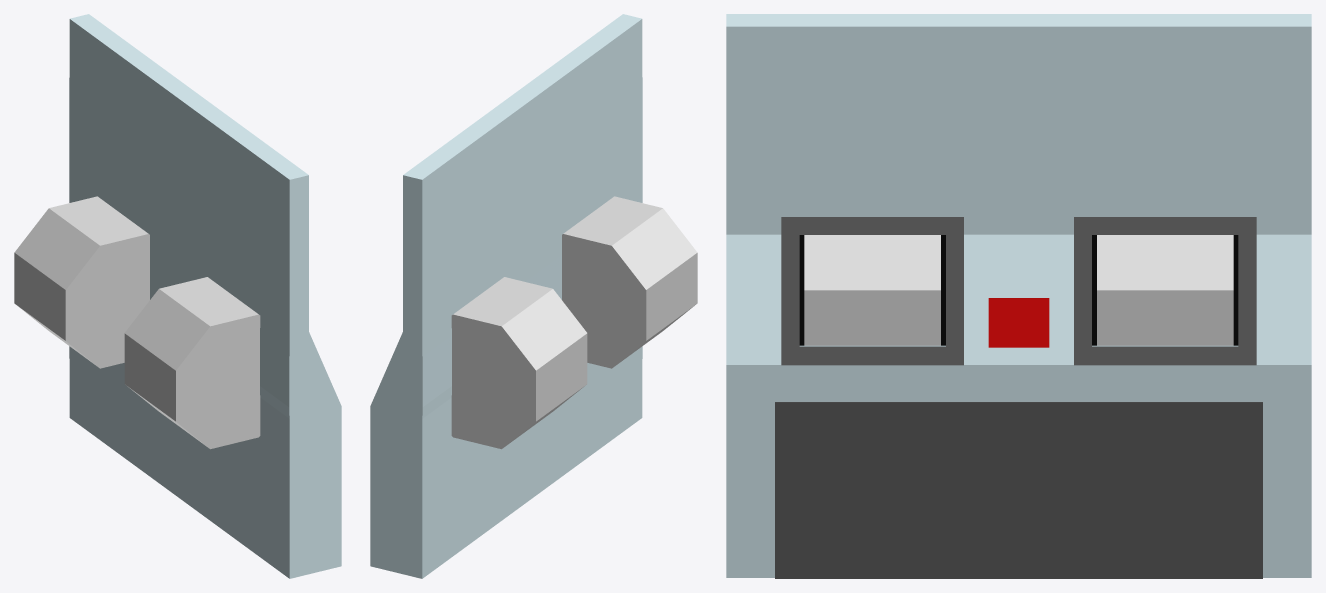
The model's file is elevator_slot_machine.fbx.
The picture shows the model from 3 angles, left to right: view 1: azimuth 30°, elevation 25°; view 2: azimuth 150°, elevation 25°; view 3: azimuth 270°, elevation 25°; orthographic projection. The views are drawn at different scales.
Visible parts, largest first — view 1: Cube.014, Cylinder.001, Cylinder.002; view 2: Cube.014, Cylinder.002, Cylinder.001; view 3: Cube.014, Cube.016, Cylinder.001, Cylinder.002, Cube.002, Cube.005, Cube.013.
Boxes of the visible parts, left/top/right/bottom form: Cube.014: left=69, top=14, right=341, bottom=578; Cylinder.001: left=124, top=277, right=260, bottom=449; Cylinder.002: left=14, top=196, right=149, bottom=368; Cube.014: left=370, top=14, right=642, bottom=578; Cylinder.002: left=451, top=277, right=587, bottom=449; Cylinder.001: left=562, top=196, right=697, bottom=368; Cube.014: left=726, top=14, right=1311, bottom=577; Cube.016: left=775, top=402, right=1262, bottom=578; Cylinder.001: left=804, top=235, right=940, bottom=345; Cylinder.002: left=1097, top=235, right=1233, bottom=345; Cube.002: left=781, top=217, right=963, bottom=365; Cube.005: left=1074, top=217, right=1256, bottom=365; Cube.013: left=988, top=298, right=1049, bottom=347.
Size of the model in its own units: 111 by 300 by 300.
